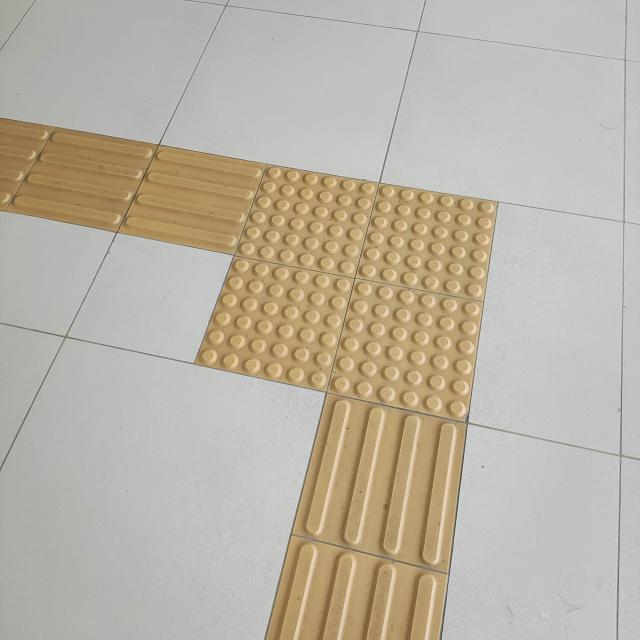kiri: (69, 74, 556, 487)
